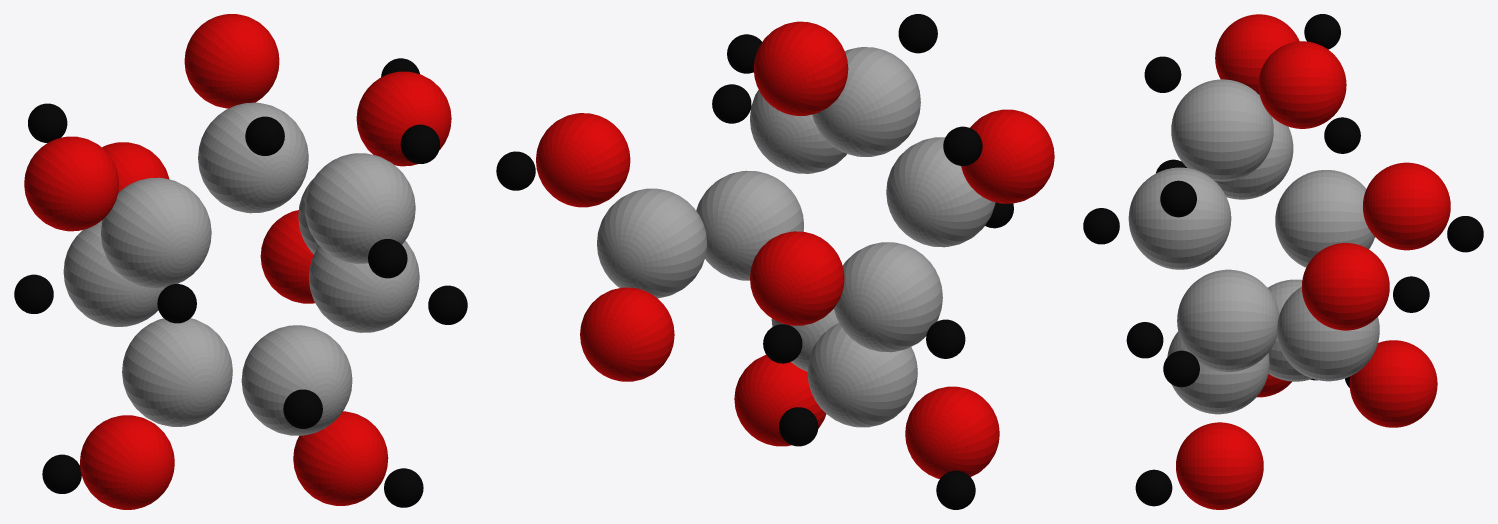
The model's file is Maltose.glb.
3 renders of one model, left to right at view 1: azimuth 30°, elevation 25°; view 2: azimuth 150°, elevation 25°; view 3: azimuth 270°, elevation 25°, orthographic. The views are drawn at different scales.
Visible parts, largest first — view 1: world; view 2: world; view 3: world.
Boxes of the visible parts, x1,y1,x2,y2 form: world: (14, 14, 467, 509); world: (496, 14, 1054, 509); world: (1083, 14, 1483, 509).
Size of the model in its own units: 6.85 by 6.49 by 5.46.
